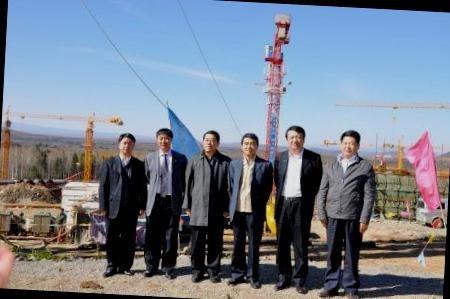no_helmet: (336, 126, 363, 158), (283, 121, 309, 152), (113, 130, 140, 158), (238, 130, 261, 159), (201, 126, 221, 156), (154, 124, 175, 152)
